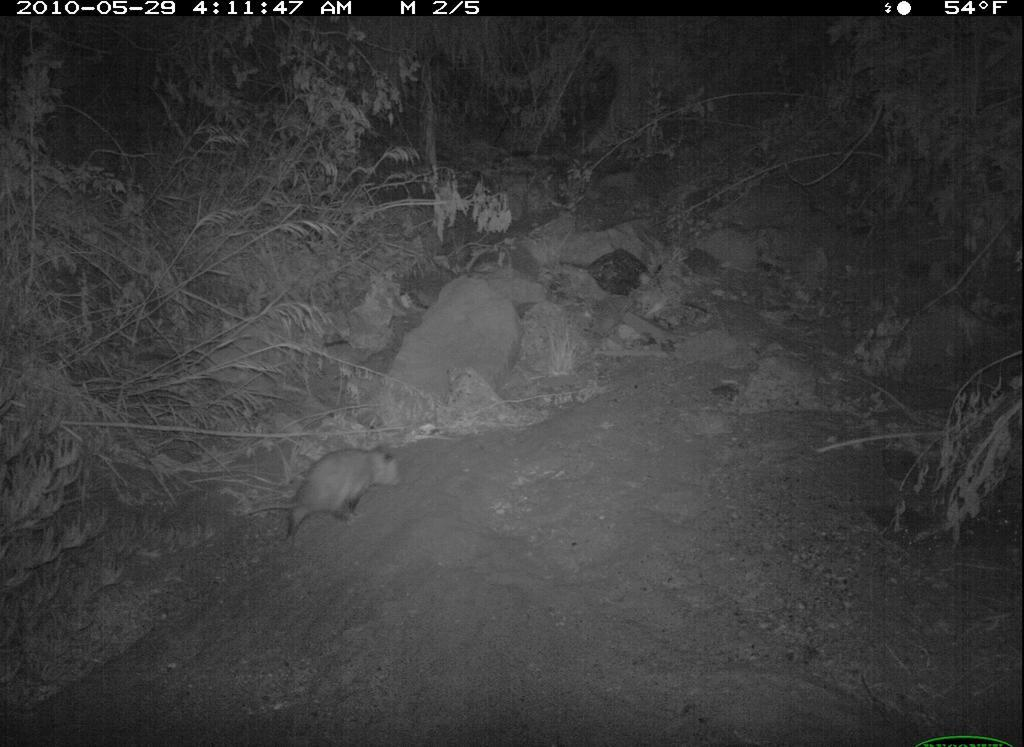opossum: (264, 429, 441, 569)
